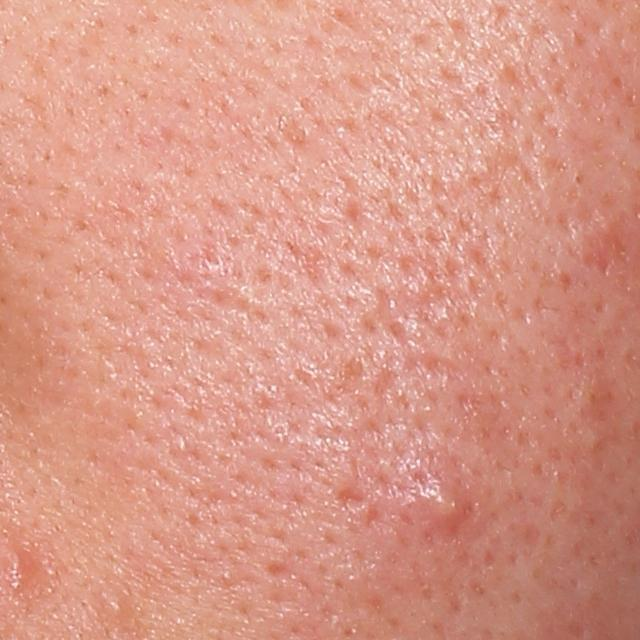atrophic_scar: (581, 214, 636, 279), (332, 487, 370, 513)
comedo: (101, 591, 131, 621)
papule: (400, 468, 473, 547)
